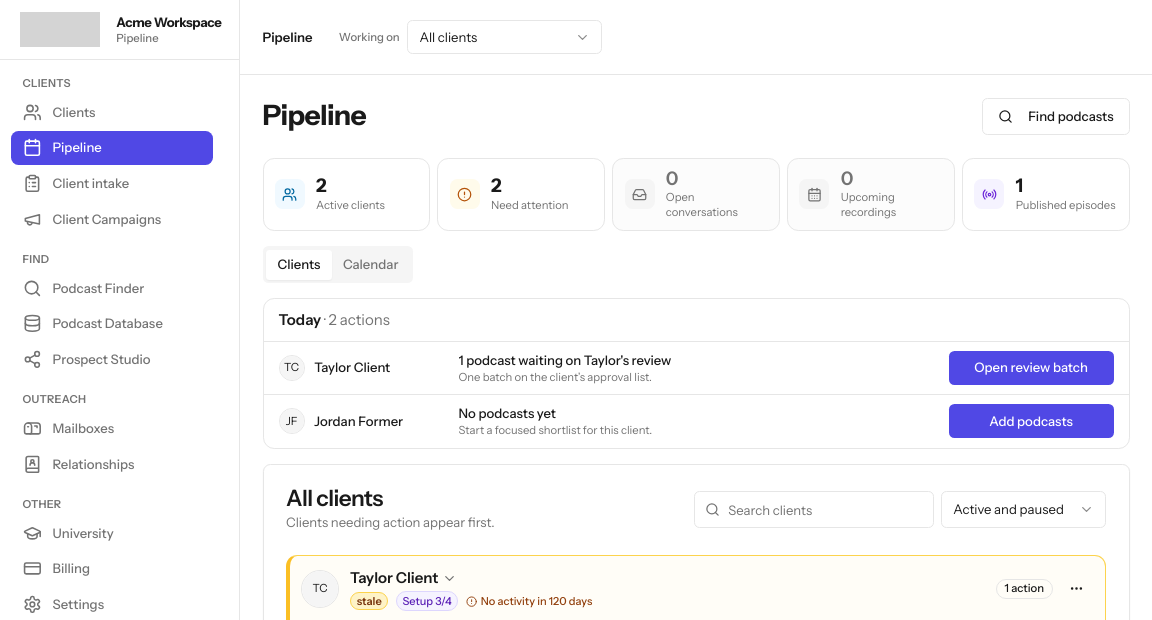
Test: WorkspaceClientPodcastSystem › shows the host brief gap, real last activity and onboarding from pipeline history
The image size is (1152, 620).
Click the button "Taylor Client": click(404, 578) x1=350 y1=567 x2=457 y2=589
(page scrolled)
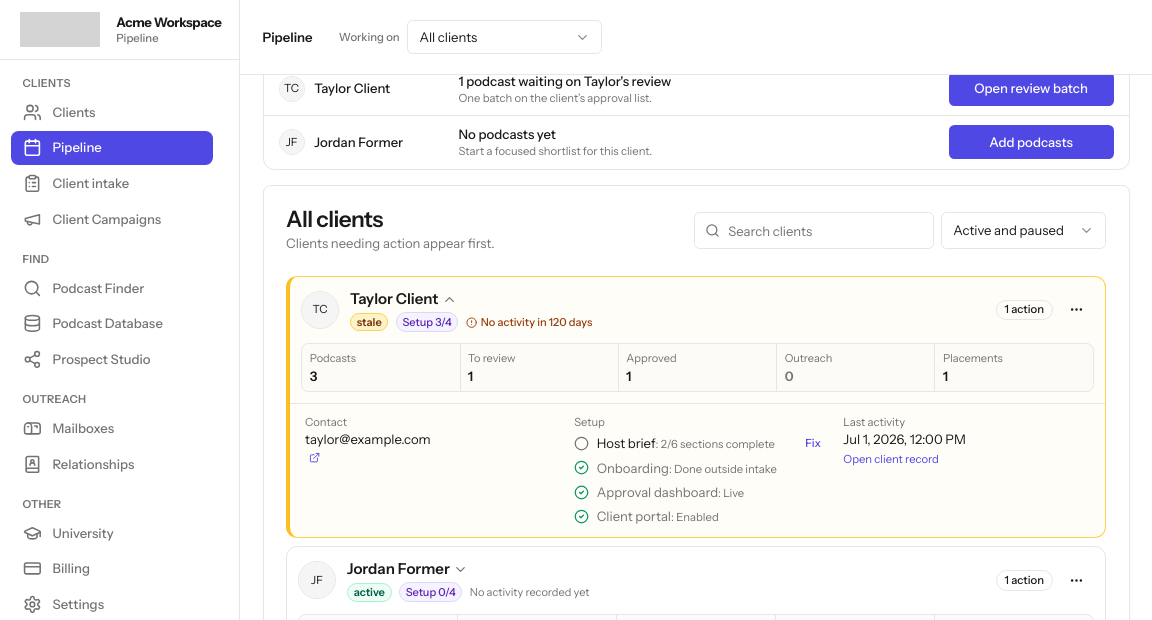
Expected: the text "No activity recorded yet" is shown, x1=470 y1=584 x2=589 y2=601
Now the text "Jul 1, 2026, 12:00 PM" is shown, box x1=843 y1=431 x2=966 y2=447
Now the text ": 2/6 sections complete" is shown, box x1=656 y1=437 x2=775 y2=451
Click the button "Jordan Former": click(408, 569) x1=347 y1=558 x2=468 y2=580
(page scrolled)
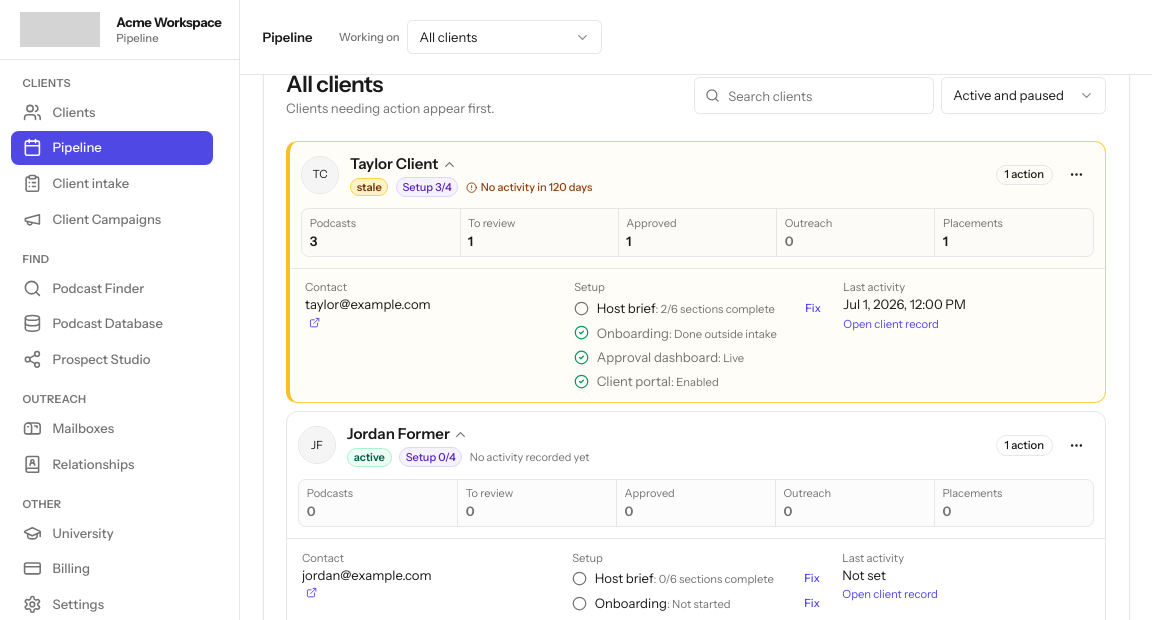
Now the text ": Not started" is shown, box x1=667 y1=597 x2=731 y2=611
